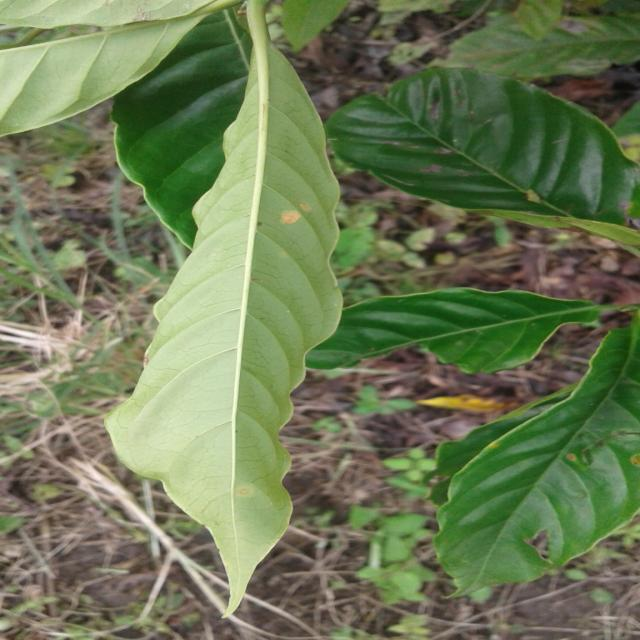Enfermedad-Roya: (104, 0, 344, 613)
